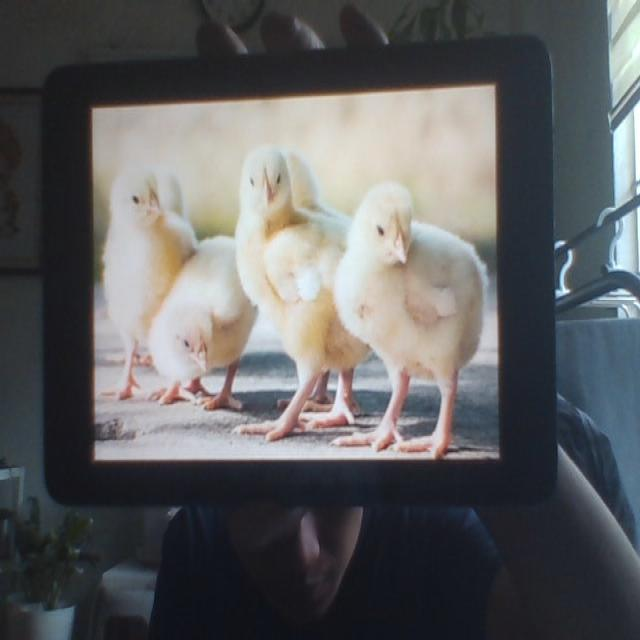Healthy: (340, 180, 490, 453), (238, 145, 364, 437), (103, 165, 176, 345)
Sick: (146, 232, 254, 418)
